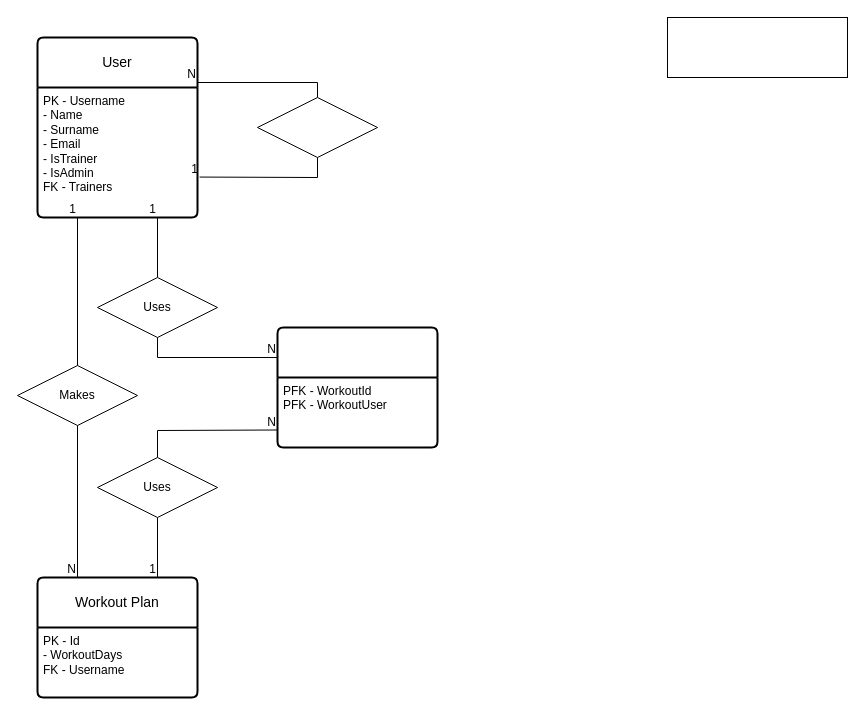
The diagram is 865 pixels wide and 716 high, and some of its shapes have lost their labels. The shapes that lost their labels are listed below. From the top down, each one's box as (x1, y1, x2, y2) in pixels, then its label:
(666, 16, 848, 78): Legenda: PK - Chiave primaria FK - Chiave esterna PFK - Entrambe le precedenti
(256, 96, 378, 158): Subscribes
(276, 326, 438, 448): Workout Assignment
